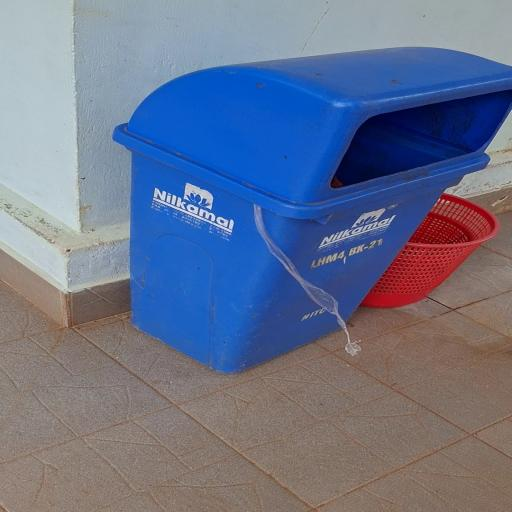Nilkamal-dustbin-detection: (114, 47, 512, 372)
